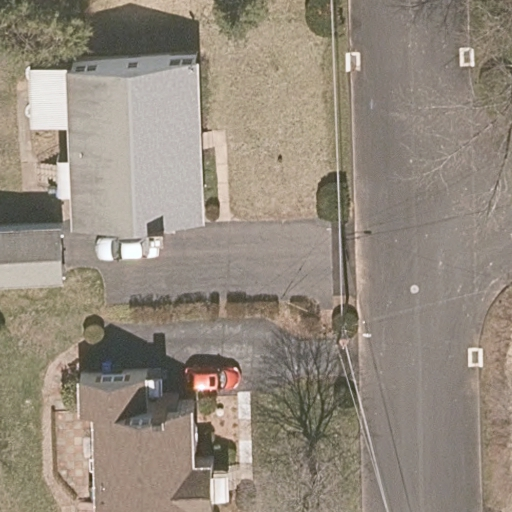DT: (332, 301, 371, 350)
